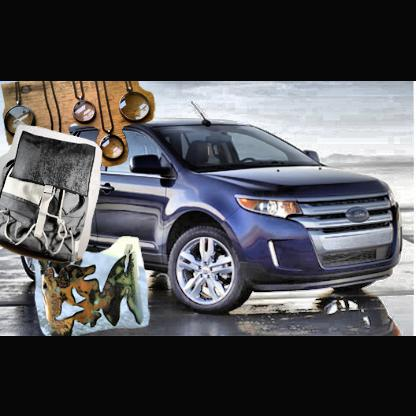Ford Edge SUV 2012: (11, 118, 404, 314)
